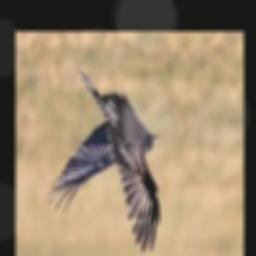Crow: (45, 71, 160, 253)
